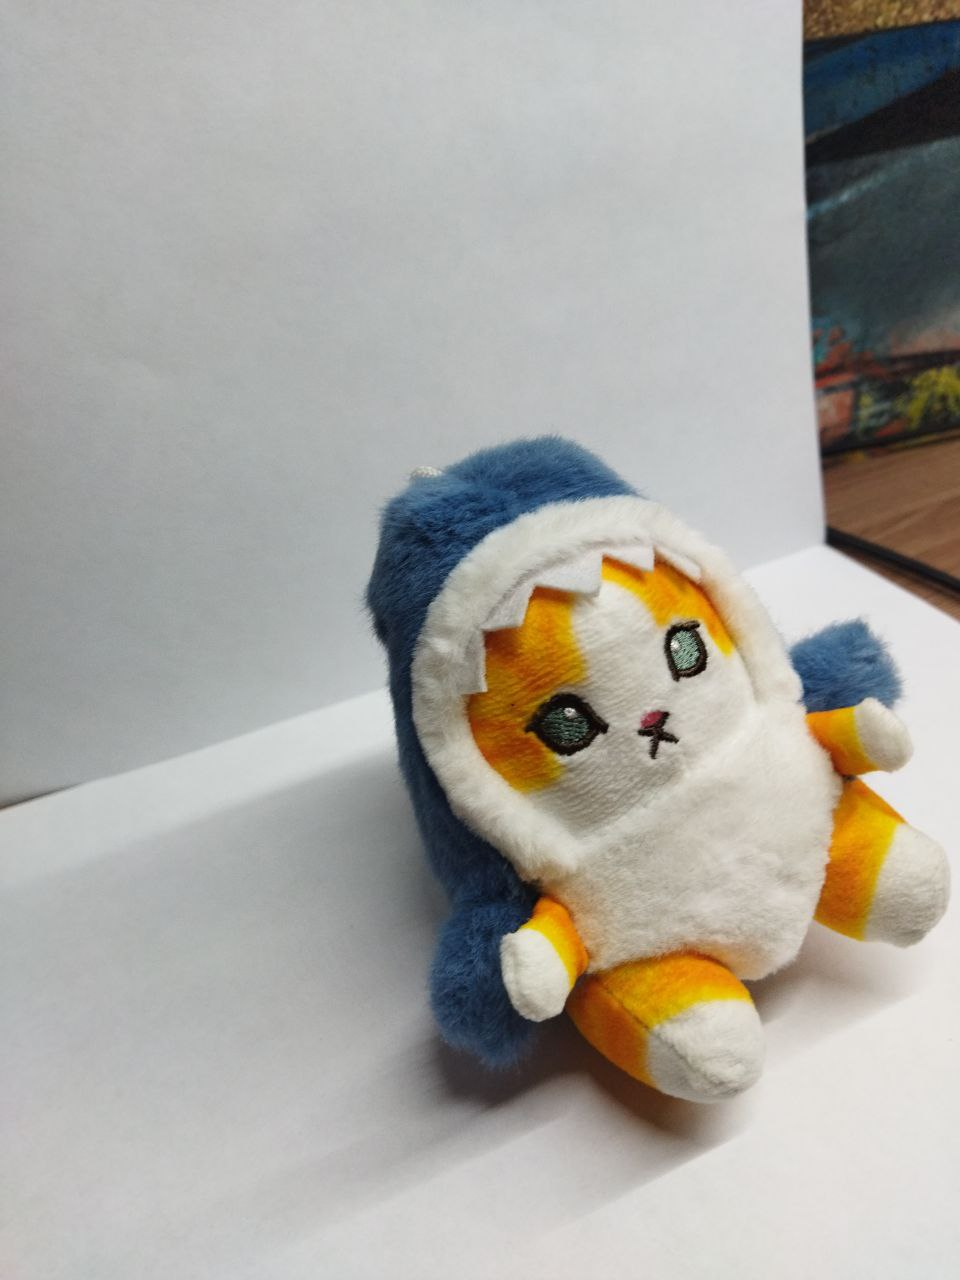Snark Cat: (369, 435, 941, 1107)
